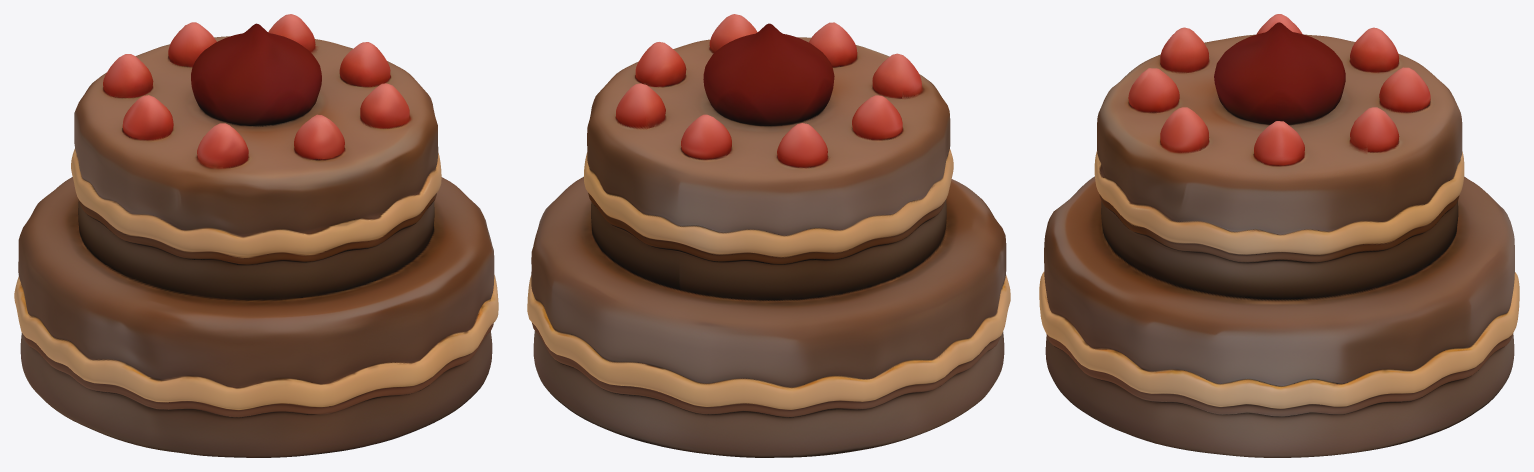
The model's file is base_basic_shaded.glb.
3 views of the same model, side by side, from view 1: azimuth 30°, elevation 25°; view 2: azimuth 150°, elevation 25°; view 3: azimuth 270°, elevation 25° (orthographic).
Visible parts, largest first — view 1: model; view 2: model; view 3: model.
Boxes of the visible parts, <box> form: model: <box>14,14,498,457</box>; model: <box>527,14,1010,457</box>; model: <box>1039,14,1519,457</box>.
Size of the model in its own units: 1.89 by 1.46 by 1.89.
Materials: 1 (1 with a texture image).
